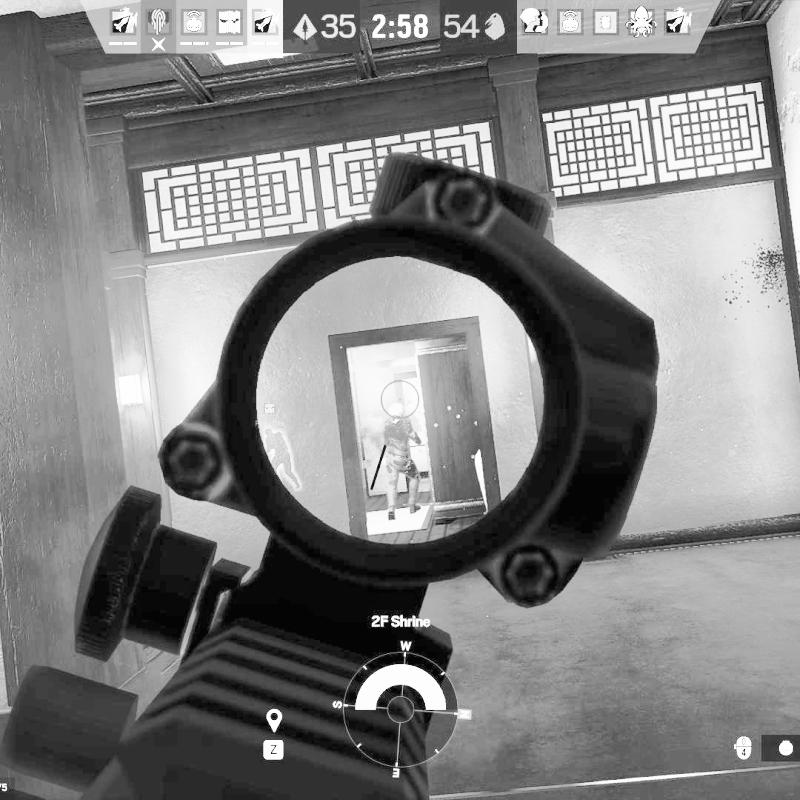Character: (380, 399, 425, 522)
Friend_label: (254, 403, 286, 428)
Head: (386, 402, 406, 420)
